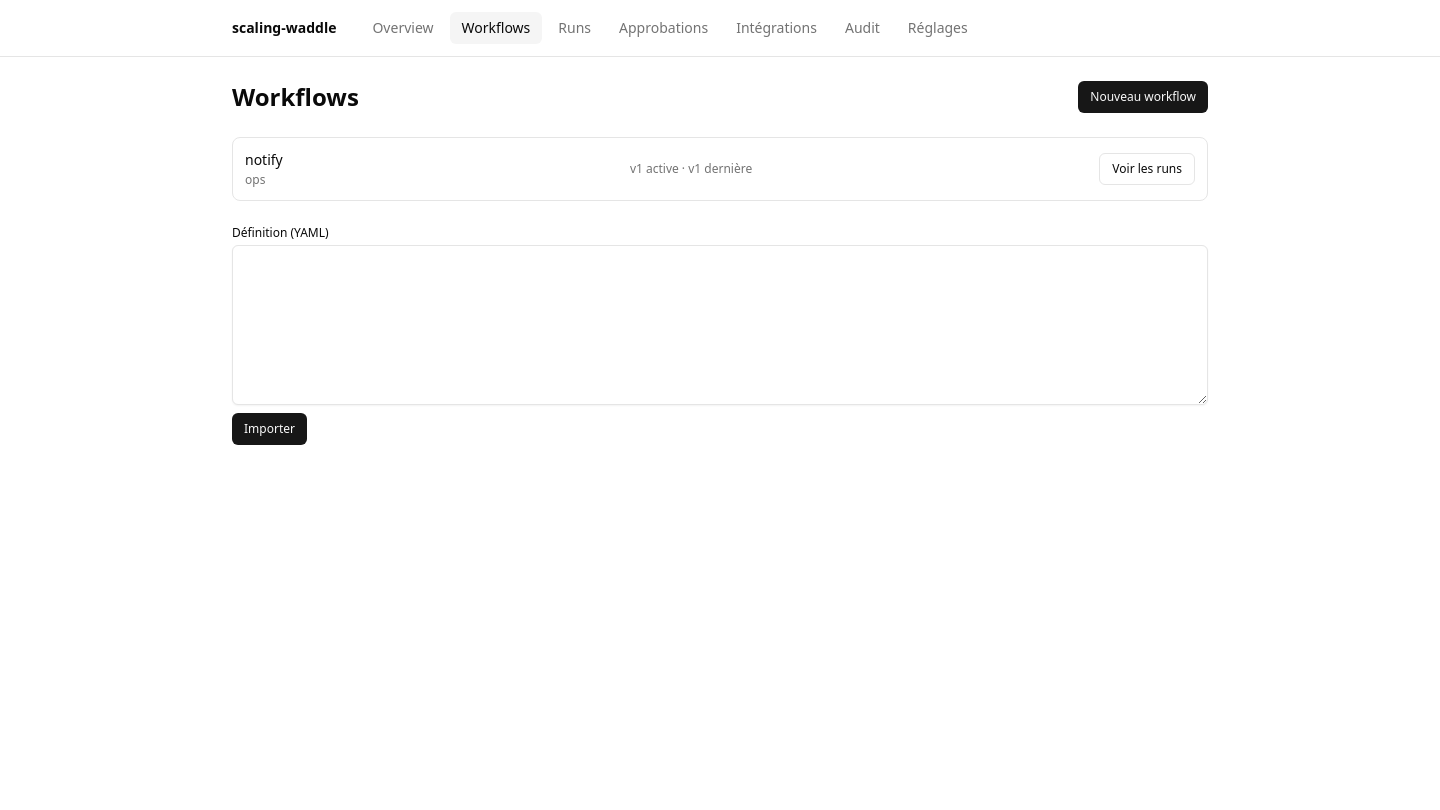
it: App routing › opens a workflow detail page from the list
Click the button "notify": [264, 160] box [245,150,283,170]
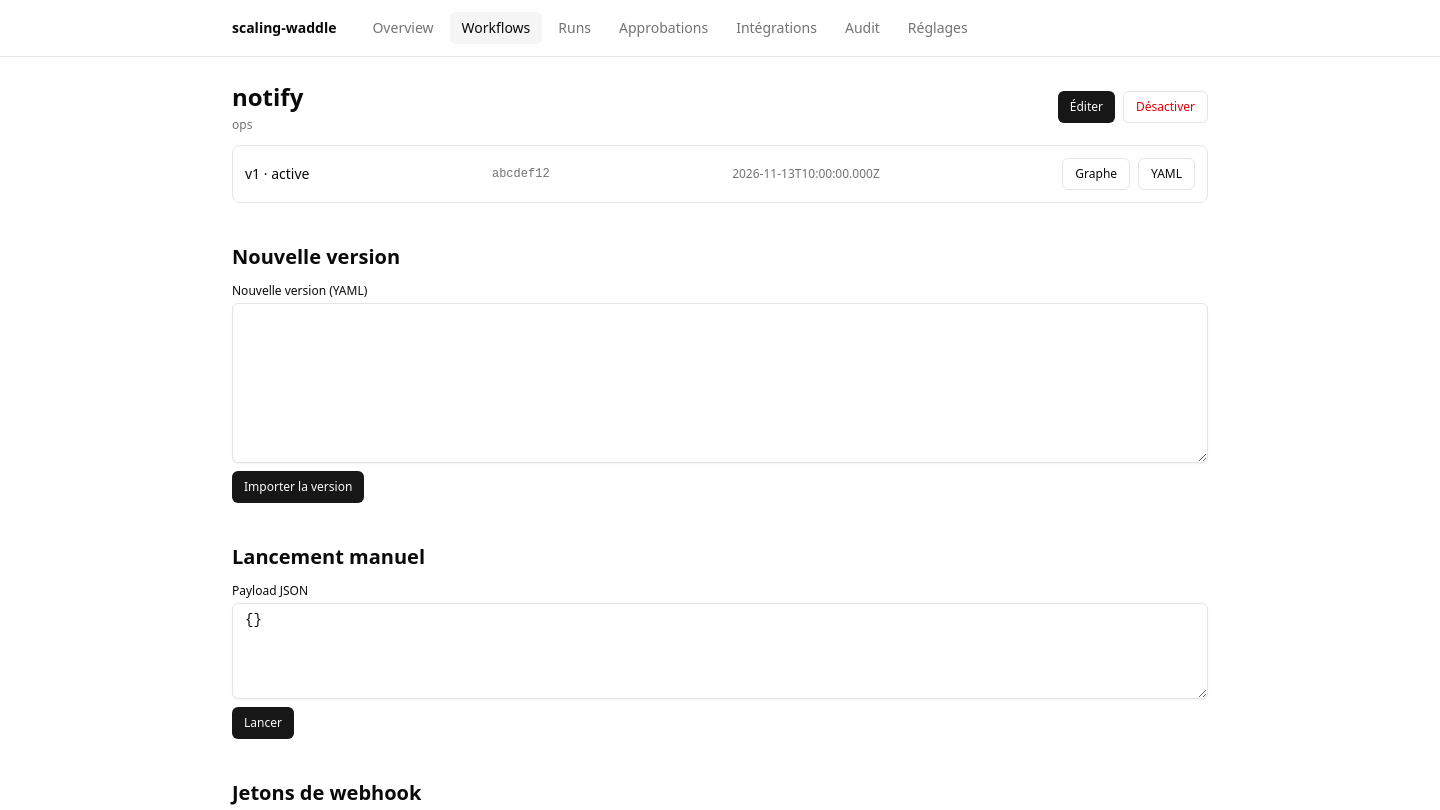
Check: the text "v1 · active" is shown, box [245,164,309,184]
